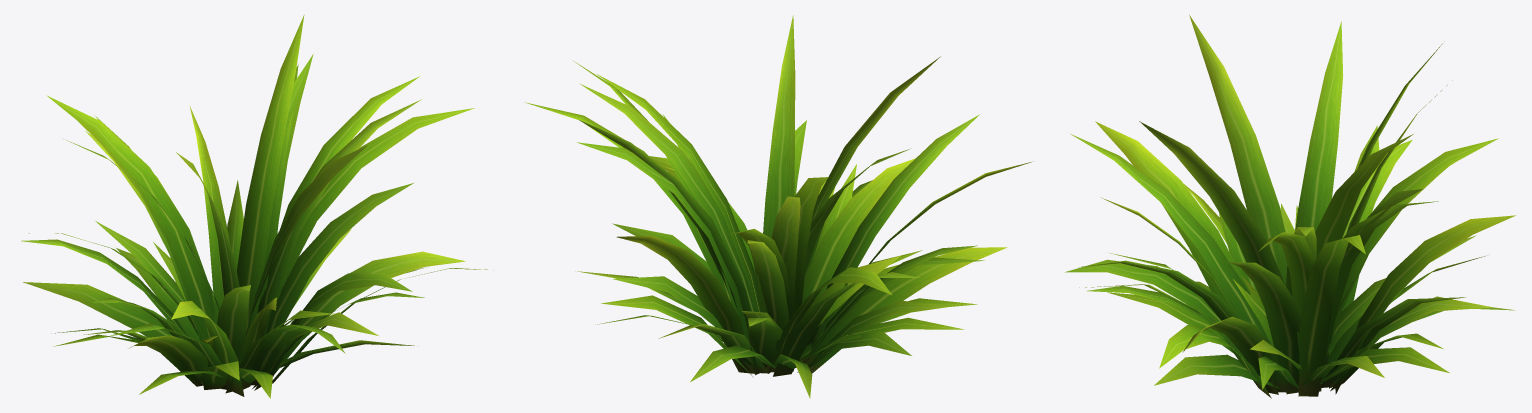
Rendered from IO_Grass_Clump_A.glb.
The picture shows the model from 3 angles, left to right: view 1: azimuth 30°, elevation 25°; view 2: azimuth 150°, elevation 25°; view 3: azimuth 270°, elevation 25°; orthographic projection. The views are drawn at different scales.
Visible parts, largest first — view 1: IO_Grass_Clump_A_LOD0; view 2: IO_Grass_Clump_A_LOD0; view 3: IO_Grass_Clump_A_LOD0.
Part boxes in pixels (<box>): IO_Grass_Clump_A_LOD0: <box>21,15,493,398</box>; IO_Grass_Clump_A_LOD0: <box>525,15,1032,398</box>; IO_Grass_Clump_A_LOD0: <box>1065,15,1515,398</box>.
Size of what is drawn, in the model's own units: 0.7017 by 0.4908 by 0.6358.
1 material, 1 textured.
